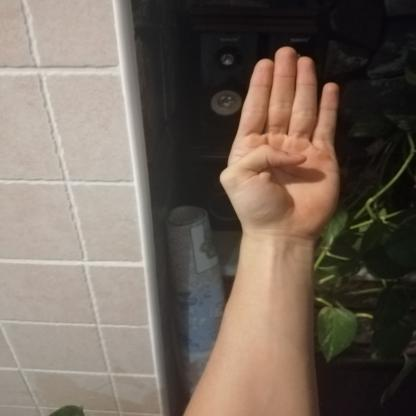KAAF: (200, 38, 361, 249)
